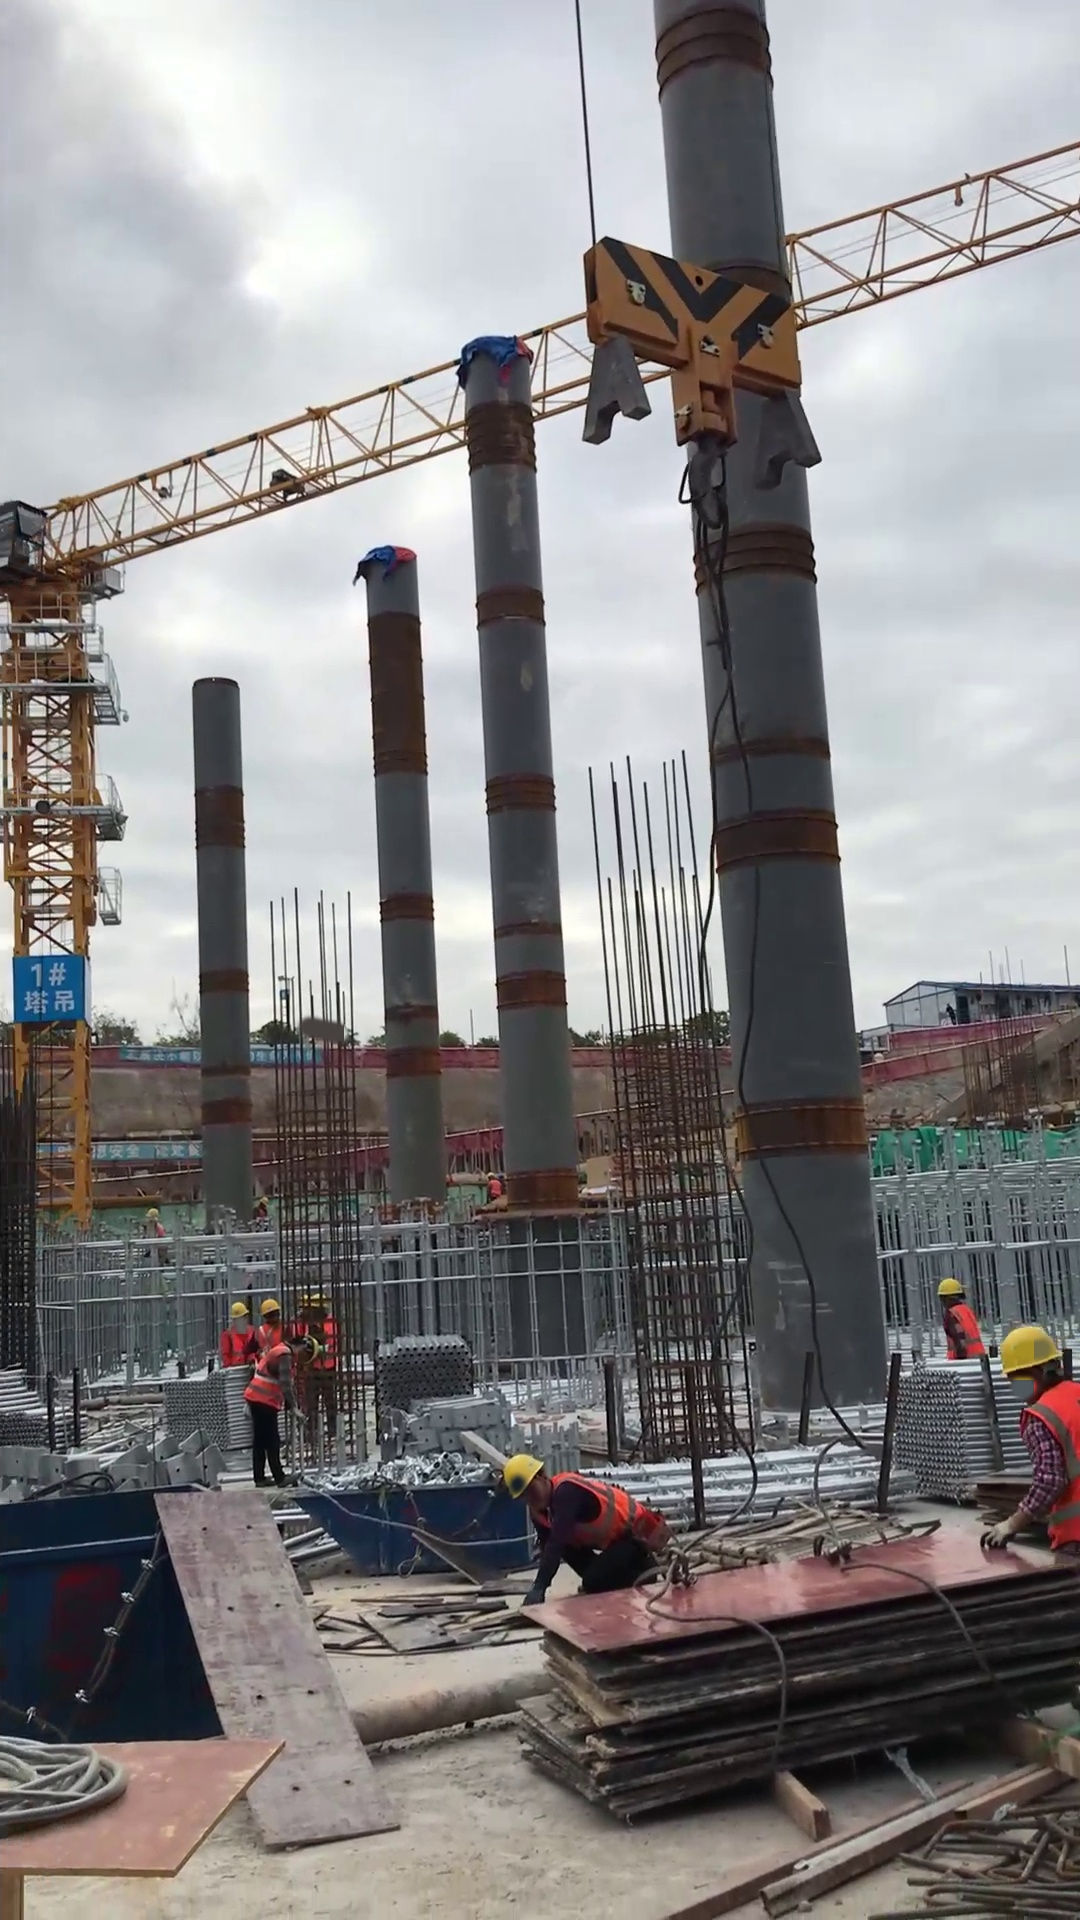helmet: (996, 1322, 1063, 1381), (502, 1450, 546, 1504), (937, 1277, 964, 1301), (306, 1290, 331, 1312), (305, 1334, 320, 1368), (258, 1298, 281, 1317), (228, 1302, 251, 1320), (144, 1207, 161, 1220), (258, 1195, 269, 1207), (486, 1171, 496, 1178)
person: (497, 1451, 671, 1605), (978, 1321, 1080, 1561), (240, 1332, 323, 1490), (297, 1291, 342, 1446), (935, 1276, 991, 1361), (215, 1301, 257, 1367), (250, 1297, 287, 1359), (482, 1170, 502, 1204), (254, 1194, 273, 1224)
vest: (1018, 1379, 1080, 1549), (549, 1470, 644, 1552), (242, 1340, 296, 1412), (944, 1301, 988, 1361), (299, 1314, 337, 1370), (223, 1324, 257, 1368), (254, 1319, 284, 1359), (487, 1177, 502, 1201)
